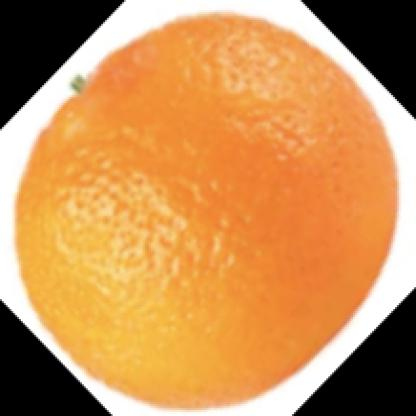fresh: (15, 13, 396, 410)
